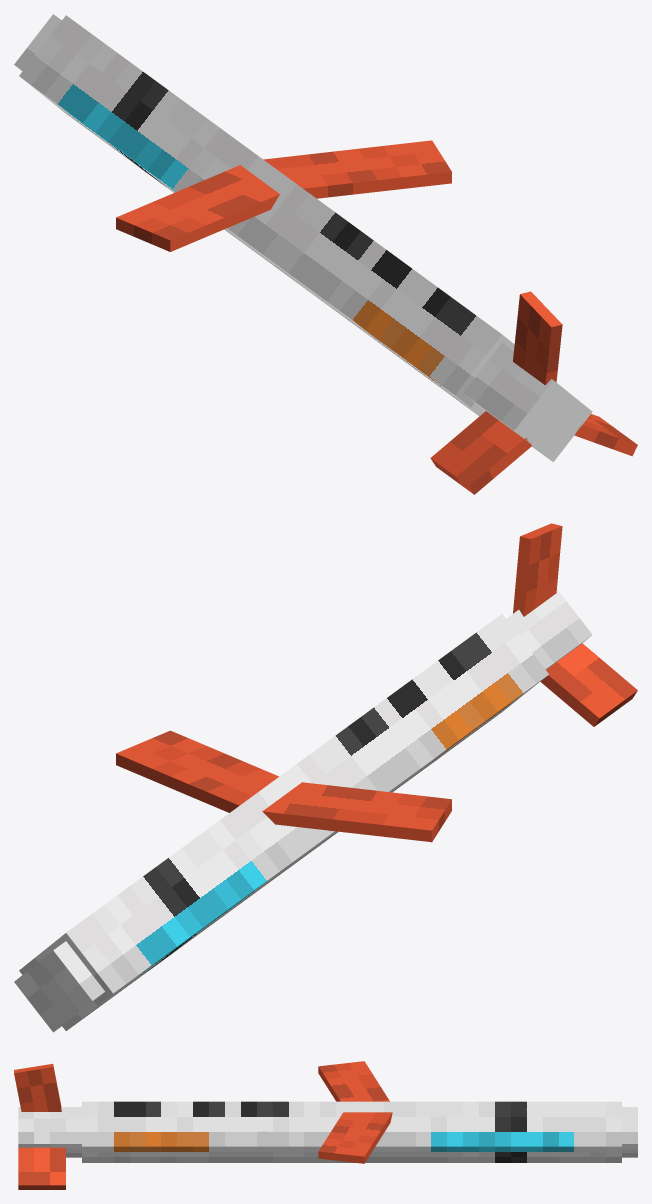
File: Tomahawk.gltf
The picture shows the model from 3 angles, top to bottom: view 1: azimuth 30°, elevation 25°; view 2: azimuth 150°, elevation 25°; view 3: azimuth 270°, elevation 25°; orthographic projection. The views are drawn at different scales.
Parts seen in each view (by area): view 1: cube (×7); view 2: cube (×6); view 3: cube (×6).
Boxes of the visible parts, <box> form: cube (×7): <box>14,14,637,494</box>; cube (×6): <box>14,523,637,1032</box>; cube (×6): <box>14,1061,637,1189</box>.
Bounding box in the file's own units: 0.8896 × 0.4368 × 2.46.
1 material, 1 textured.
